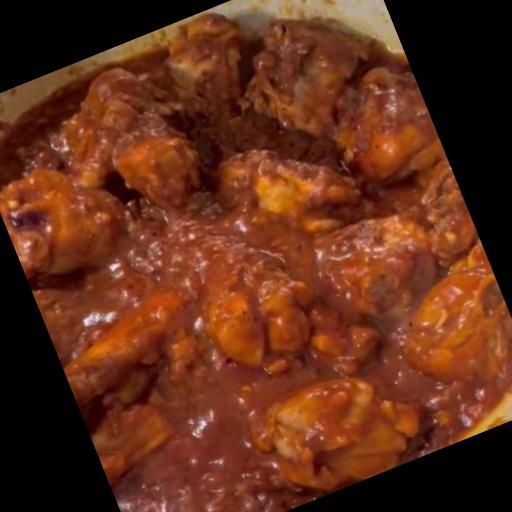pork caldereta: (0, 23, 511, 511)
